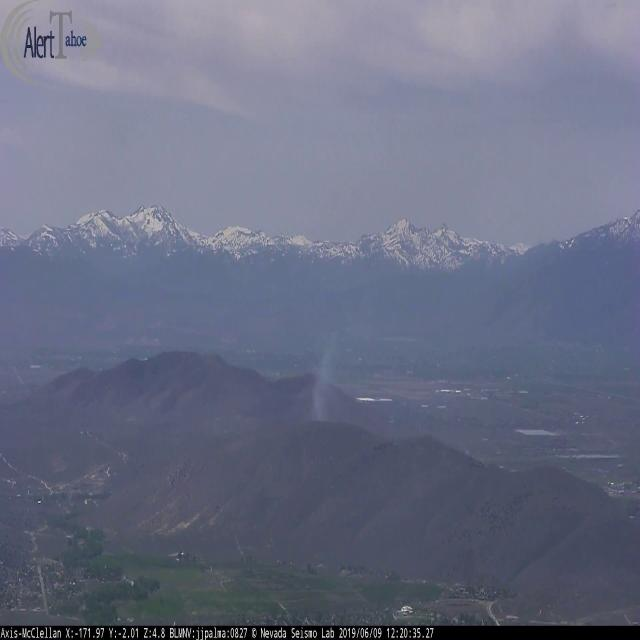smoke: (310, 328, 363, 431)
